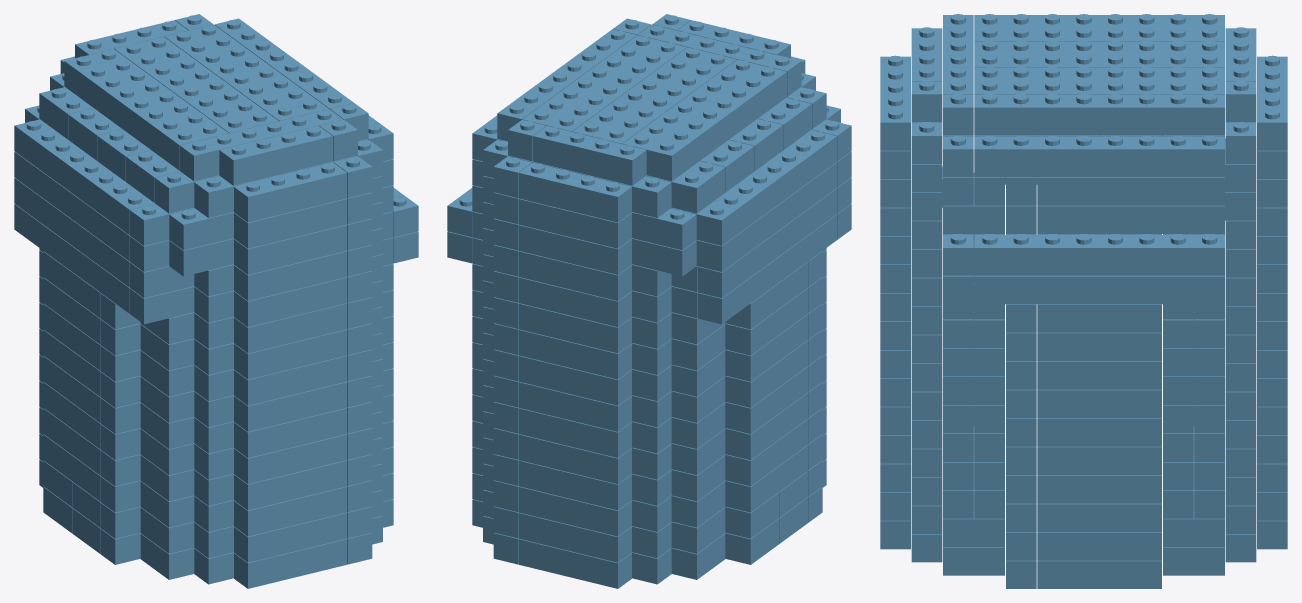
The model's file is 058_birdhouse_L3.glb.
3 renders of one model, left to right at view 1: azimuth 30°, elevation 25°; view 2: azimuth 150°, elevation 25°; view 3: azimuth 270°, elevation 25°, orthographic. The views are drawn at different scales.
Size of the model in its own units: 10.98 by 16.13 by 12.98.
